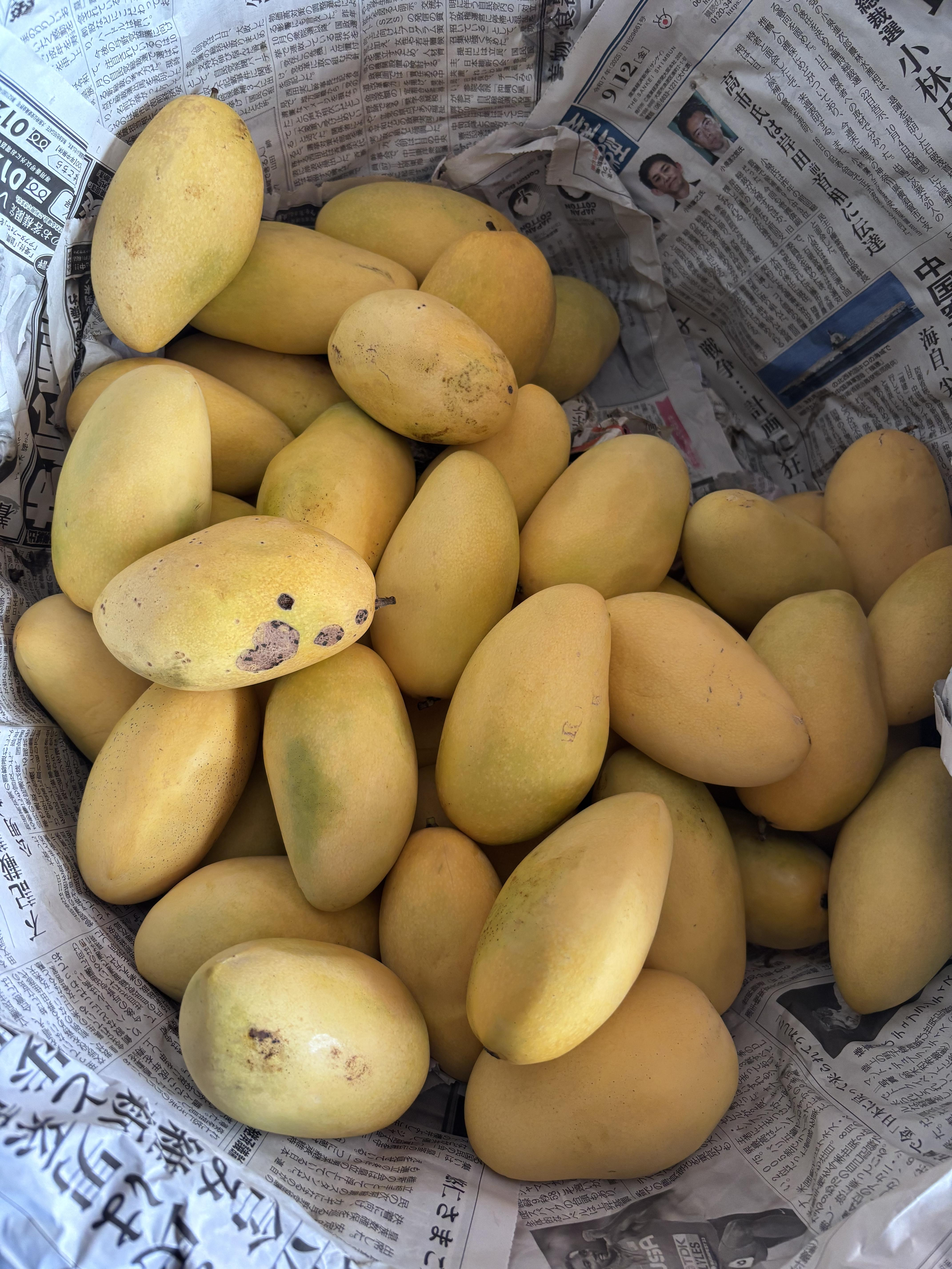mango: (466, 793, 673, 1064), (179, 938, 429, 1138), (94, 516, 375, 691), (436, 584, 610, 844), (91, 96, 263, 352), (327, 289, 519, 445)
occluded: (465, 970, 738, 1185), (263, 644, 418, 911), (593, 746, 746, 1014), (52, 358, 212, 611), (77, 684, 260, 904), (607, 592, 811, 786), (370, 451, 519, 698), (737, 590, 887, 832), (134, 855, 379, 1001), (134, 856, 379, 1001), (828, 747, 952, 1014), (66, 357, 293, 497), (380, 827, 501, 1081), (190, 221, 416, 355), (518, 435, 690, 600), (257, 402, 416, 571), (681, 490, 853, 634), (824, 429, 952, 614), (13, 593, 151, 760), (415, 385, 571, 530), (420, 232, 556, 385), (315, 181, 516, 283), (172, 333, 347, 436), (723, 808, 830, 950), (868, 546, 952, 726), (527, 275, 620, 401), (200, 743, 286, 866), (412, 764, 454, 830), (775, 491, 824, 529), (209, 490, 256, 525)
